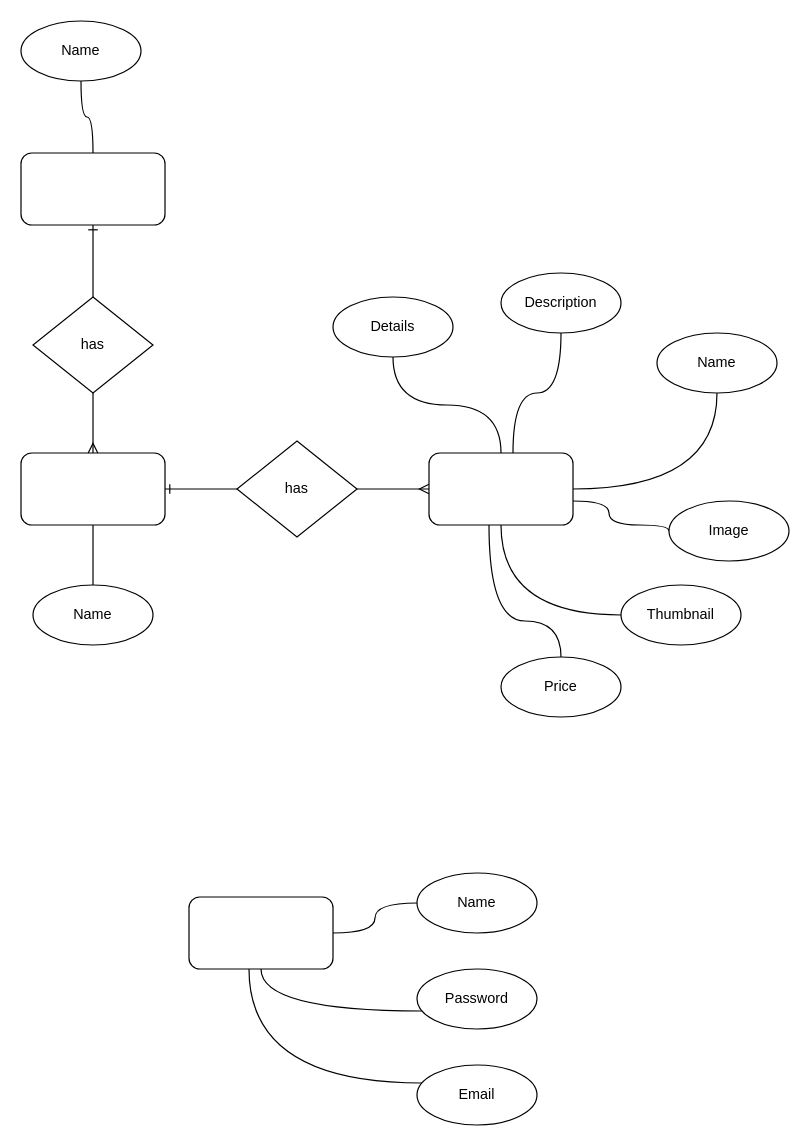
This 810x1146 diagram has some shape labels left out. Each missing label, with the centre of its shape:
Category: the point at 92,188
Product: the point at 500,488
SubCategory: the point at 92,488
User: the point at 260,932
